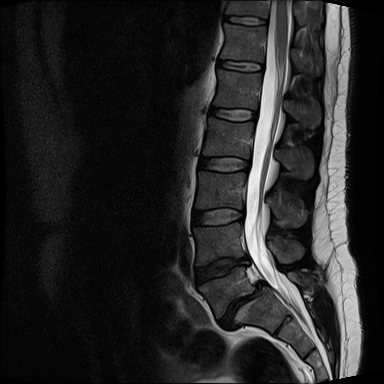Degenerative Disc Disease (DDD): (218, 280, 278, 330)
Lumbar Disc Bulge (LDB): (216, 276, 272, 334), (184, 251, 256, 289)
Normal IVD: (194, 153, 251, 175), (207, 100, 260, 123), (188, 209, 245, 229), (213, 55, 266, 75), (218, 14, 270, 27)
Spinal Stenosis (SS): (241, 249, 254, 270)
Spondylolisthesis: (194, 278, 304, 339)
